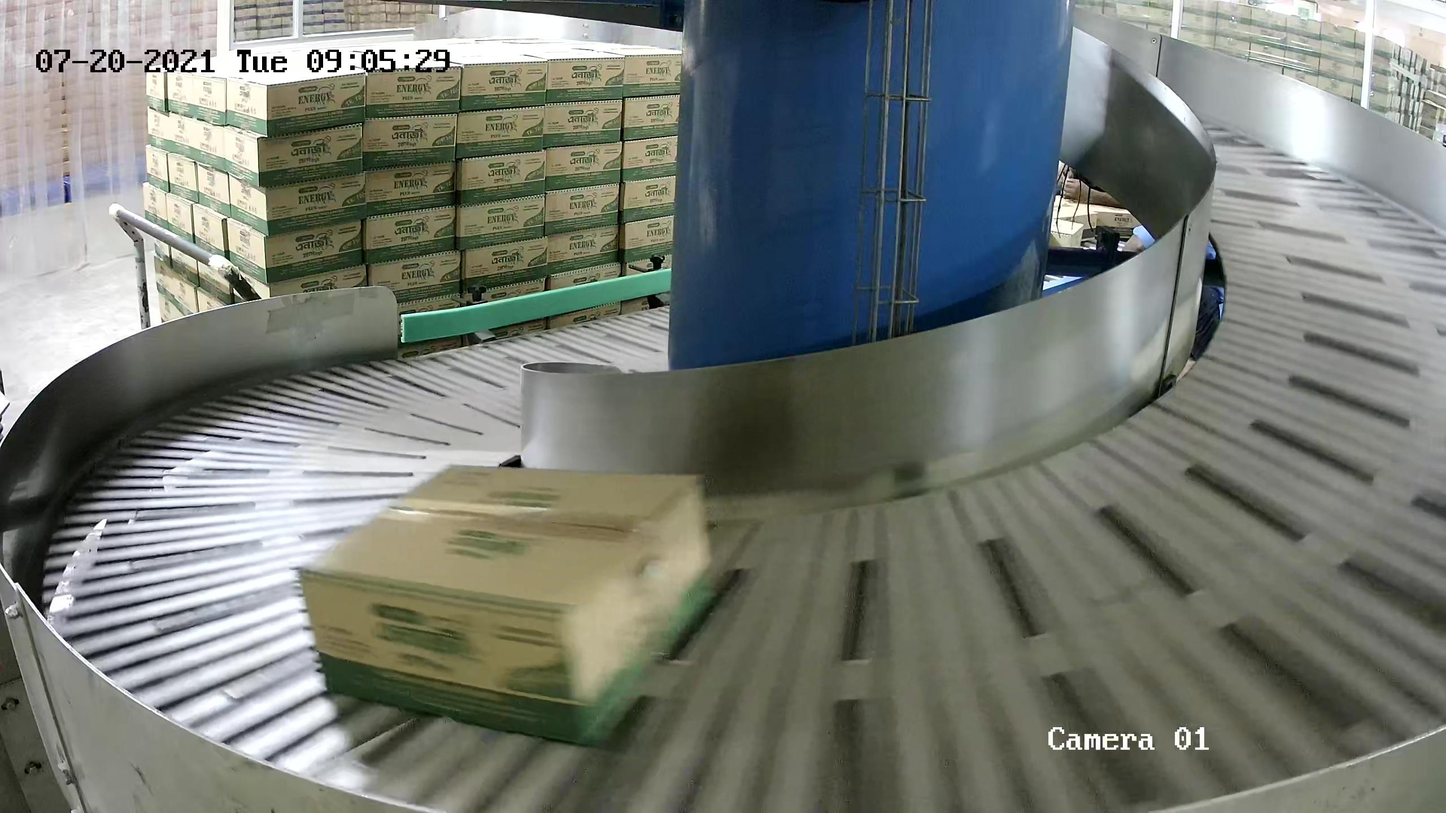Box: (299, 462, 720, 751)
